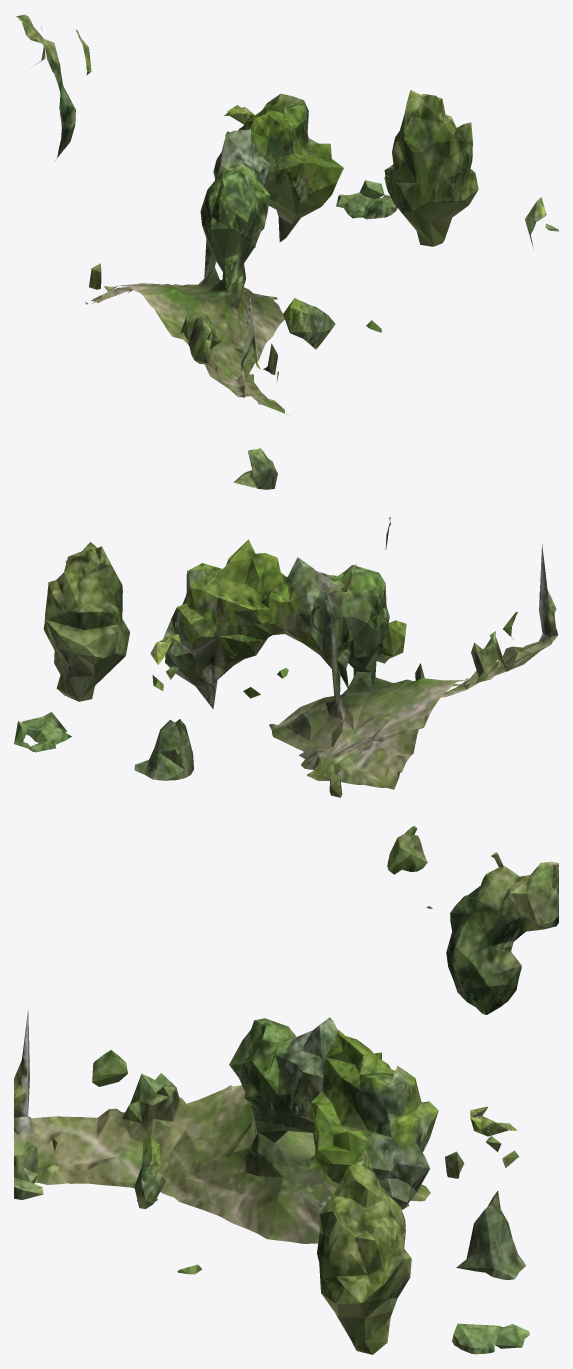
3 renders of one model, top to bottom at view 1: azimuth 30°, elevation 25°; view 2: azimuth 150°, elevation 25°; view 3: azimuth 270°, elevation 25°, orthographic. The views are drawn at different scales.
Size of the model in its own units: 24.43 by 17.35 by 26.11.
2 materials, 2 textured.
